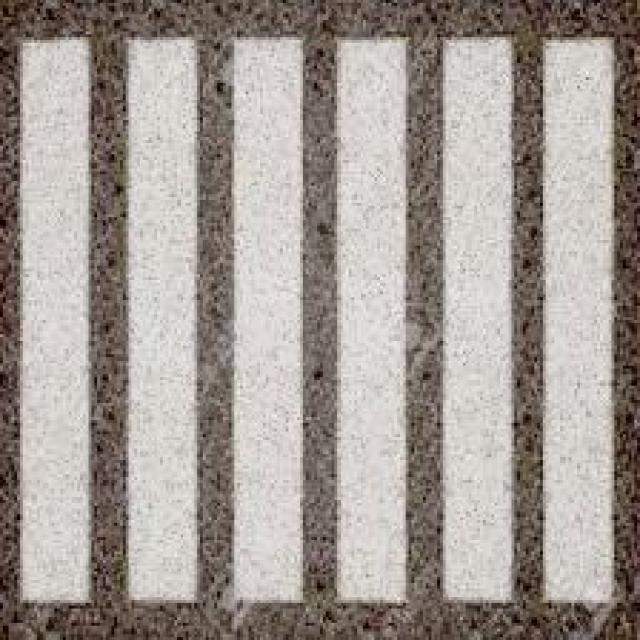zebra: (18, 39, 614, 608)
